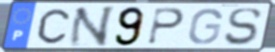9: (112, 6, 148, 48)
C: (36, 8, 72, 46)
G: (187, 7, 225, 46)
N: (66, 5, 118, 48)
P: (145, 7, 187, 46)
S: (222, 7, 263, 47)
